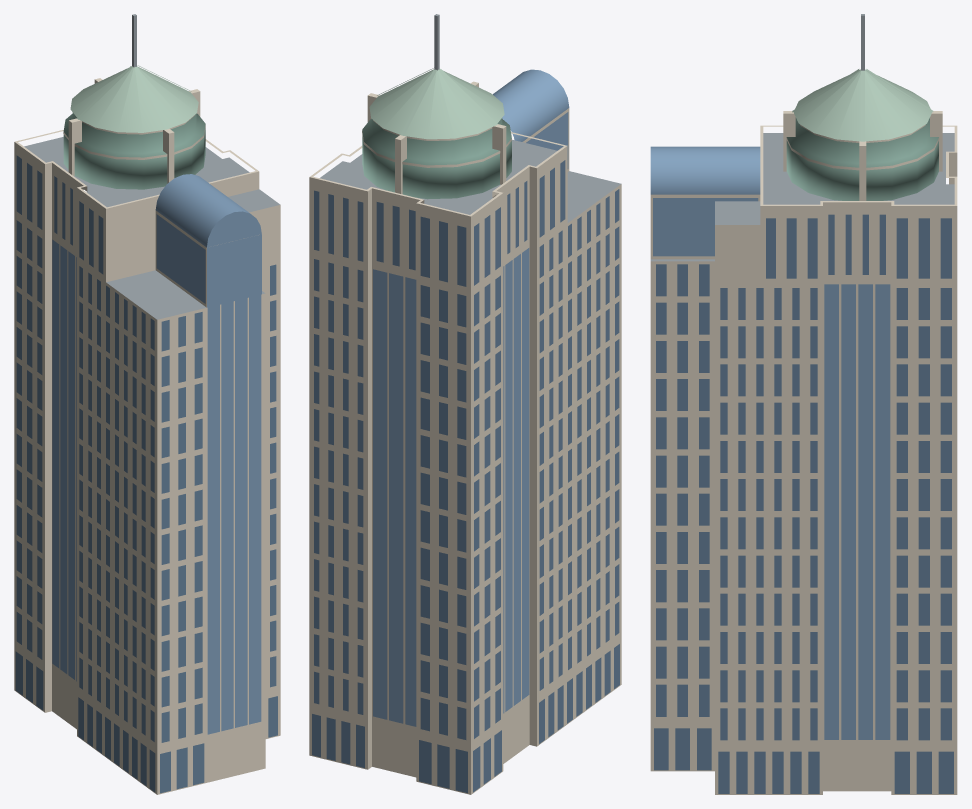
The model's file is clt-121-west-trade.glb.
3 views of the same model, side by side, from view 1: azimuth 30°, elevation 25°; view 2: azimuth 150°, elevation 25°; view 3: azimuth 270°, elevation 25° (orthographic). The views are drawn at different scales.
Visible parts, largest first — view 1: 121 West Trade; view 2: 121 West Trade; view 3: 121 West Trade.
Boxes of the visible parts, x1=… form: 121 West Trade: x1=14, y1=14, x2=280, y2=794; 121 West Trade: x1=309, y1=14, x2=621, y2=794; 121 West Trade: x1=650, y1=14, x2=957, y2=794.
Size of the model in its own units: 33.48 by 143 by 53.98.
